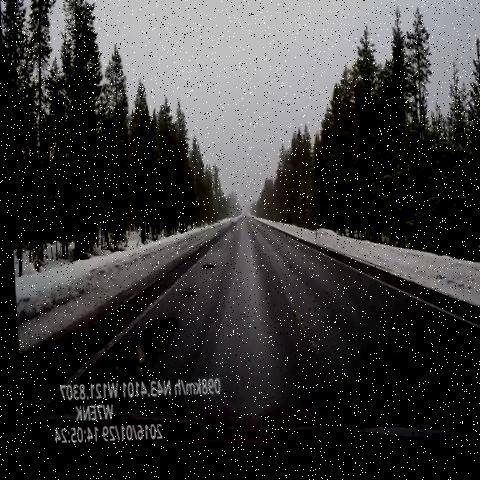pothole: (104, 305, 174, 388), (171, 283, 197, 305), (196, 255, 216, 277)
